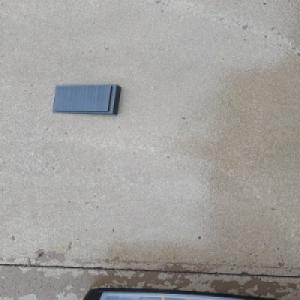PlasticPart: (50, 83, 121, 116)
